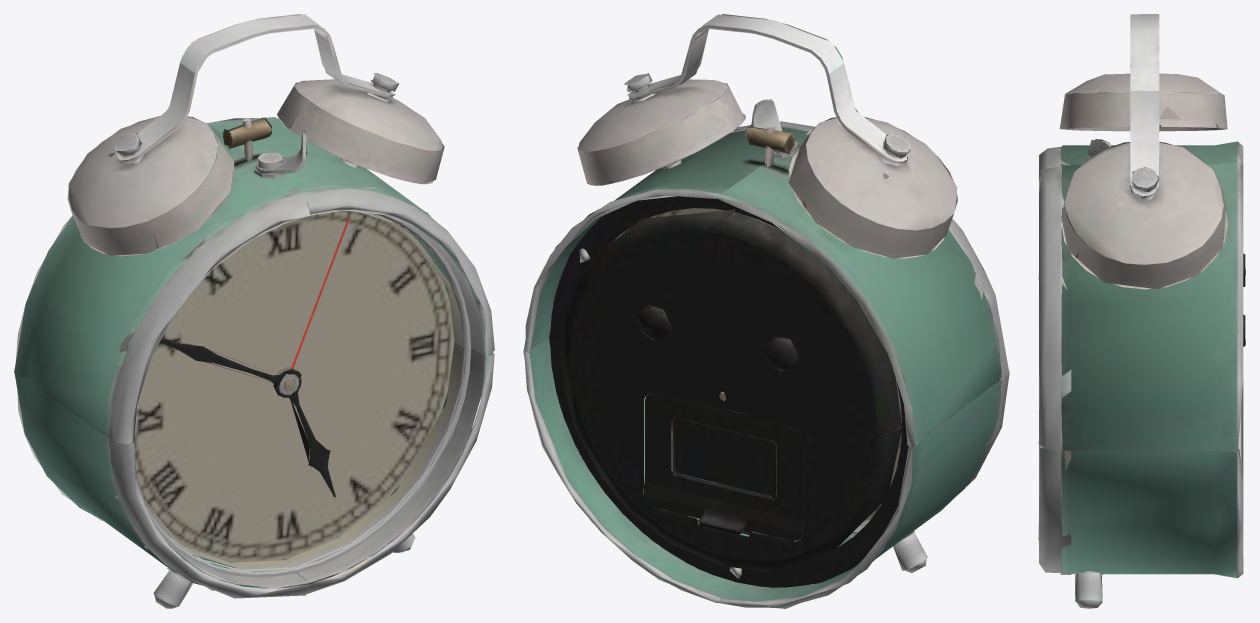
Rendered from alarm_clock.glb.
3 renders of one model, left to right at view 1: azimuth 30°, elevation 25°; view 2: azimuth 150°, elevation 25°; view 3: azimuth 270°, elevation 25°, orthographic. The views are drawn at different scales.
Parts seen in each view (by area): view 1: alarm_clock_01; view 2: alarm_clock_01; view 3: alarm_clock_01.
Part boxes in pixels (x1=…): alarm_clock_01: x1=14, y1=14, x2=494, y2=608; alarm_clock_01: x1=523, y1=14, x2=1009, y2=608; alarm_clock_01: x1=1038, y1=14, x2=1245, y2=608.
Bounding box in the file's own units: 0.1321 × 0.1743 × 0.0624.
Materials: 1 (1 with a texture image).
